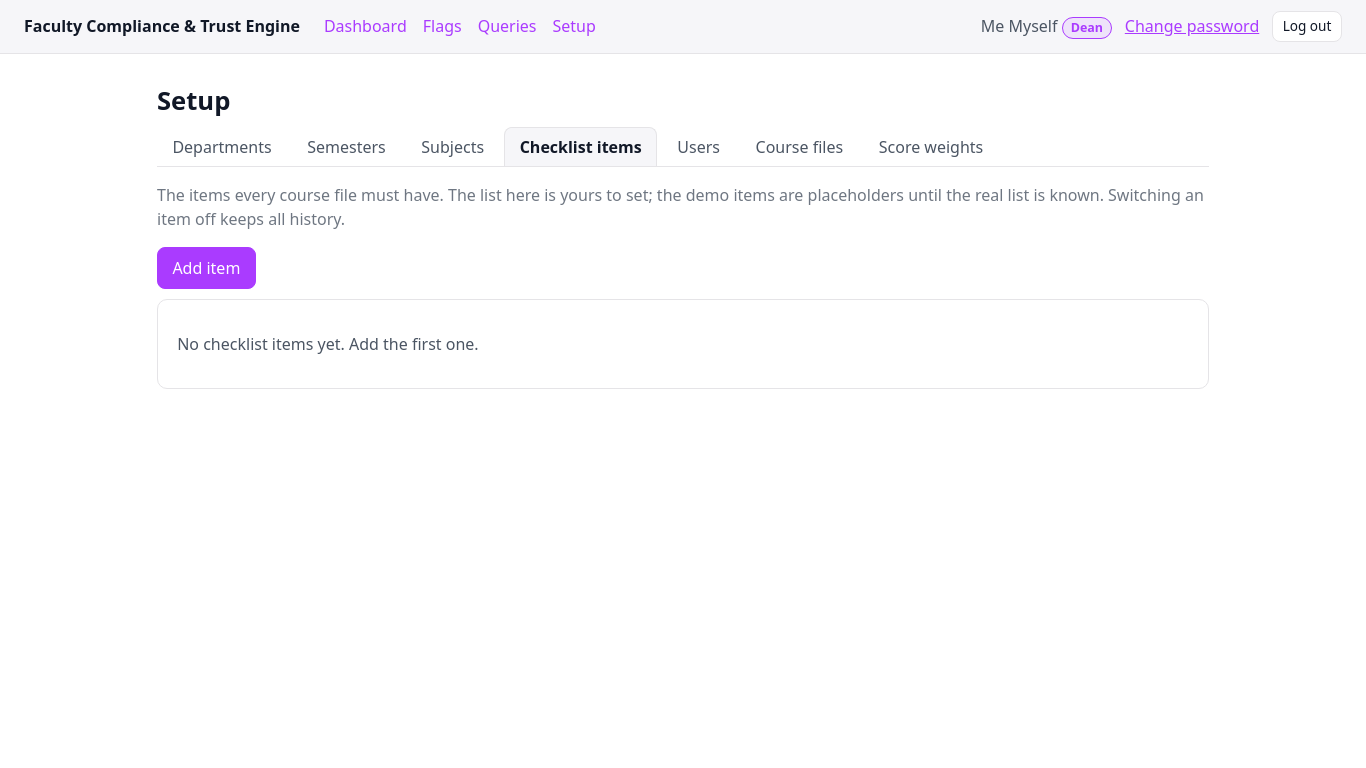
Test: subjects and checklist › creates a checklist item and refuses to save without a file type
Expected: the text "No checklist items yet. Add the first one." is shown, [177, 333, 479, 355]
Click the button "Add item": (206, 268) [157, 247, 256, 289]
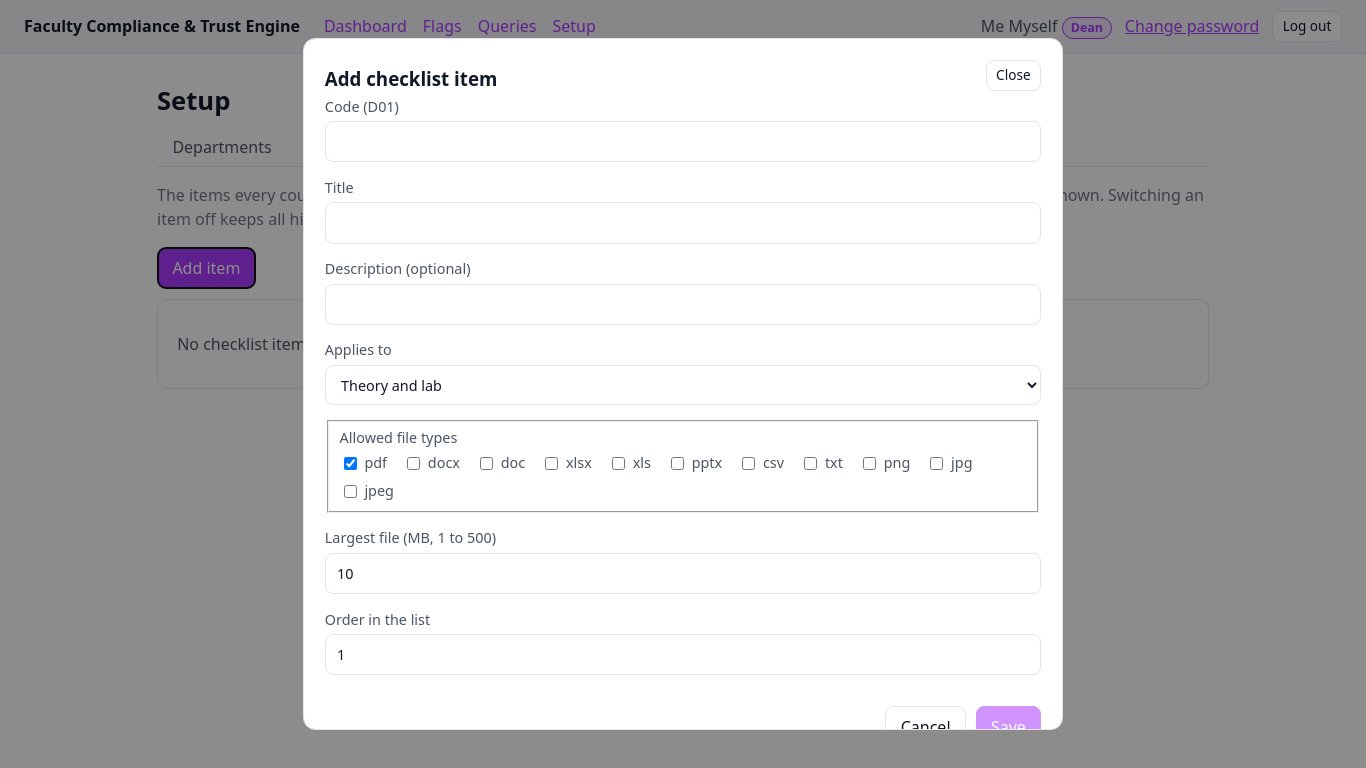
In the field labelled "Code (D01)": (683, 142) [325, 121, 1041, 162], type "D01"
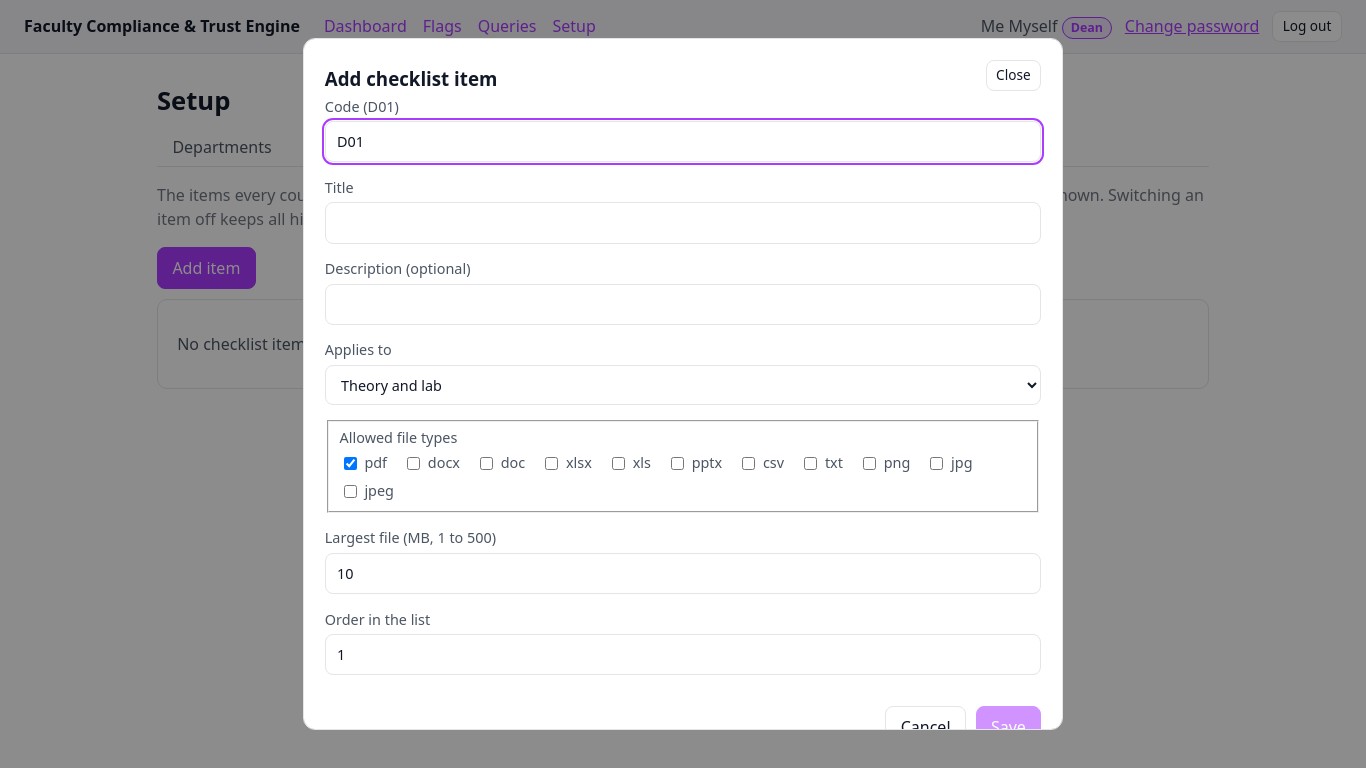
In the field labelled "Title": (683, 223) [325, 202, 1041, 244], type "Syllabus"
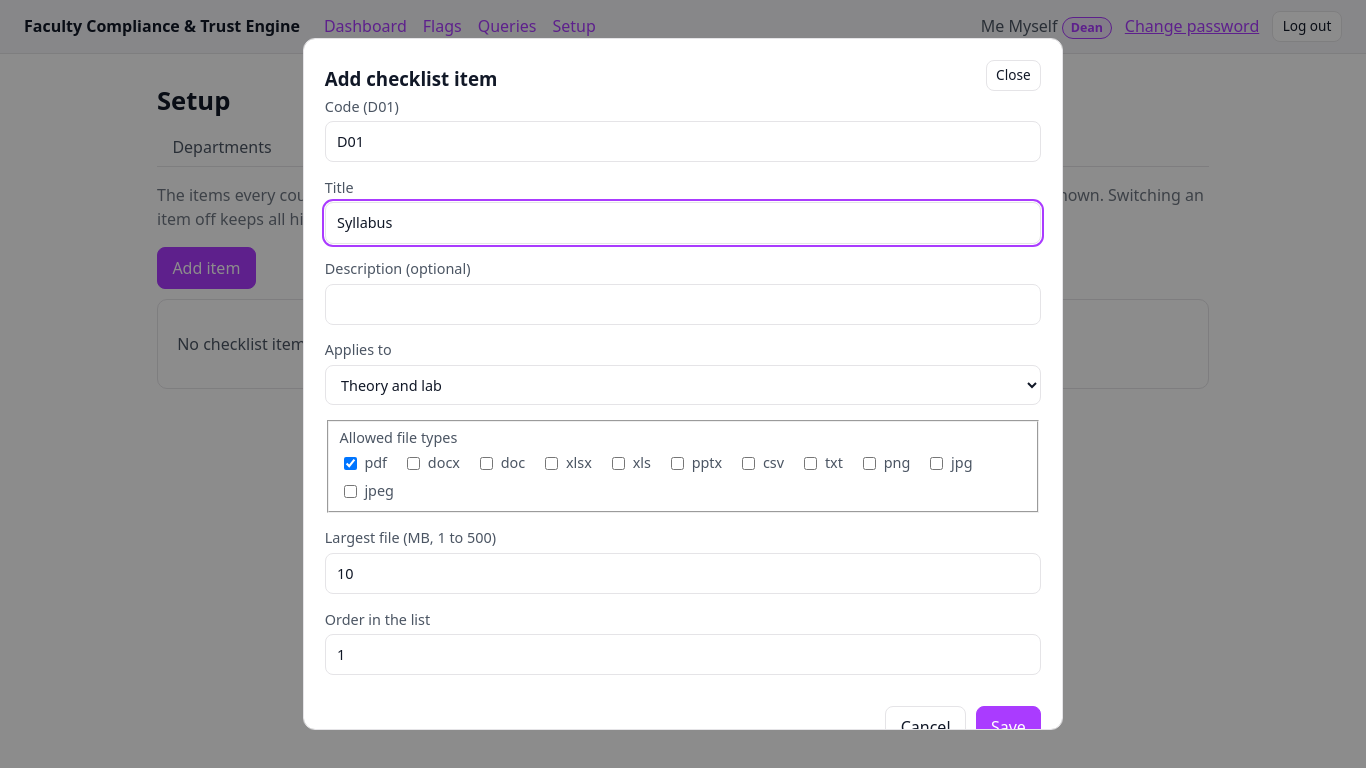
Click the checkbox labelled "pdf": (350, 463) [344, 457, 357, 470]
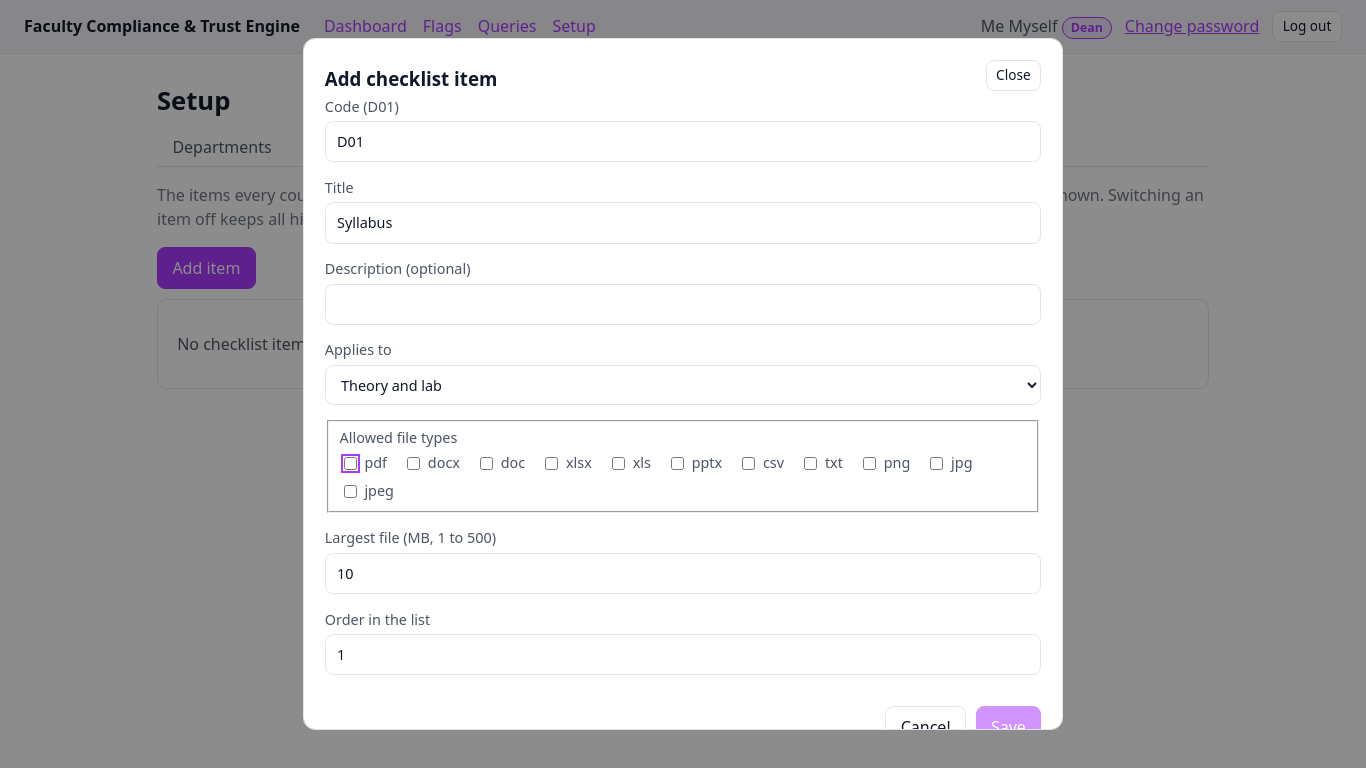
Click the checkbox labelled "docx": (414, 463) [407, 457, 420, 470]
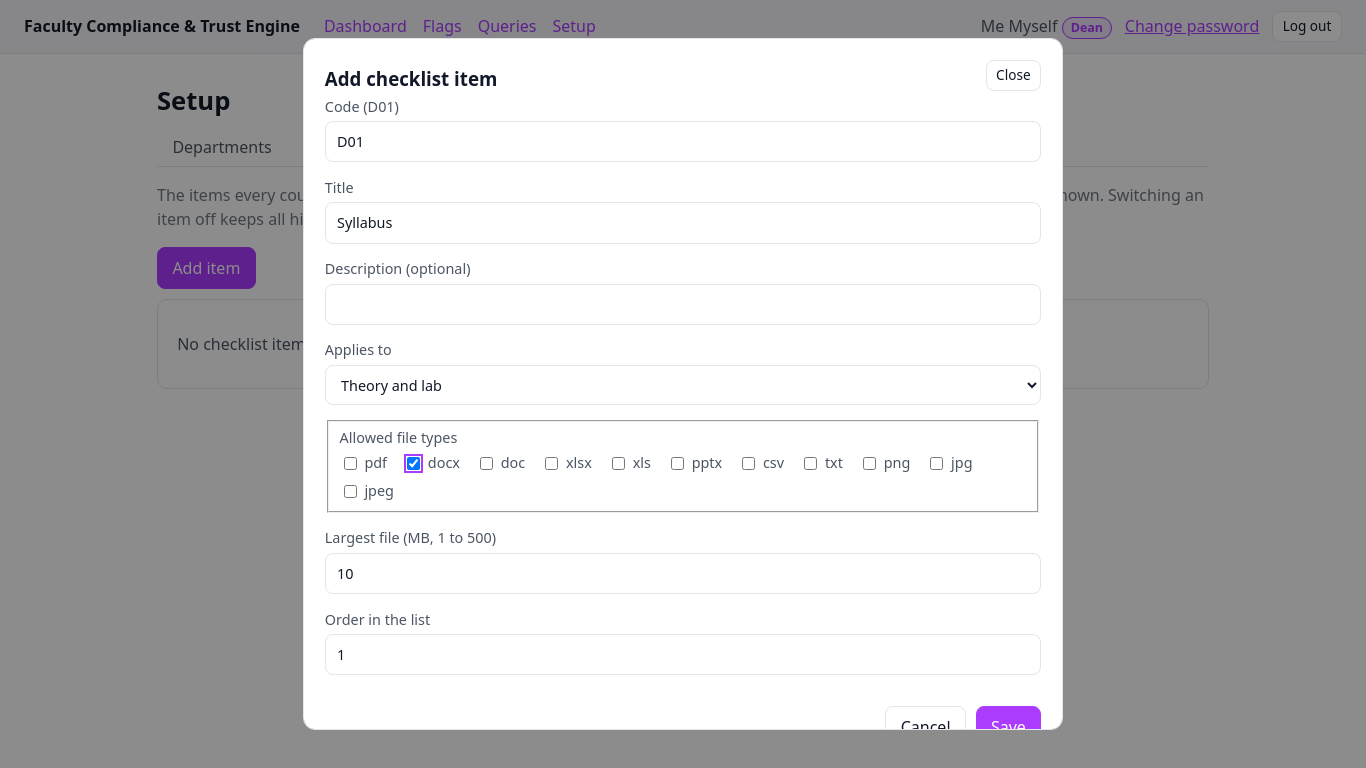
Click the button "Save": (1008, 727) [976, 706, 1041, 748]
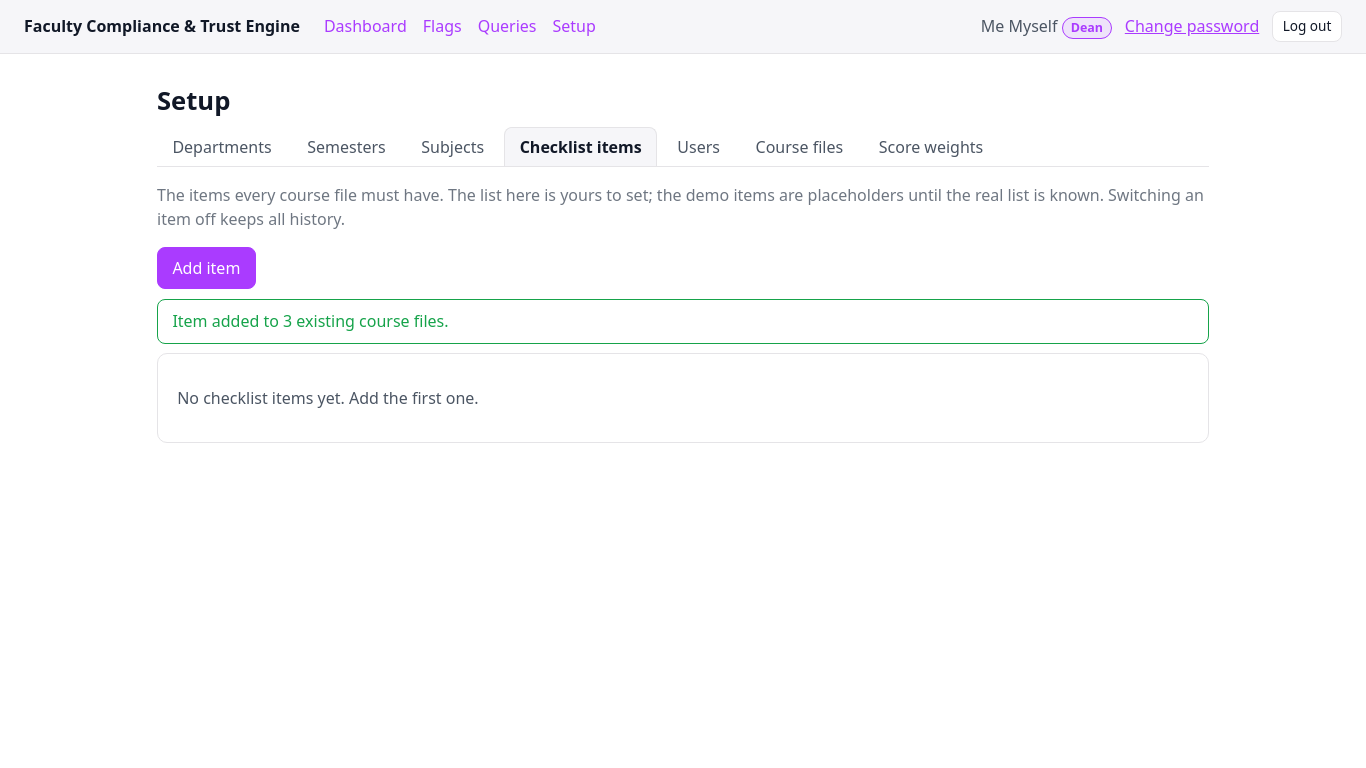
Expected: the text "Item added to 3 existing course files." is shown, [157, 299, 1209, 344]
